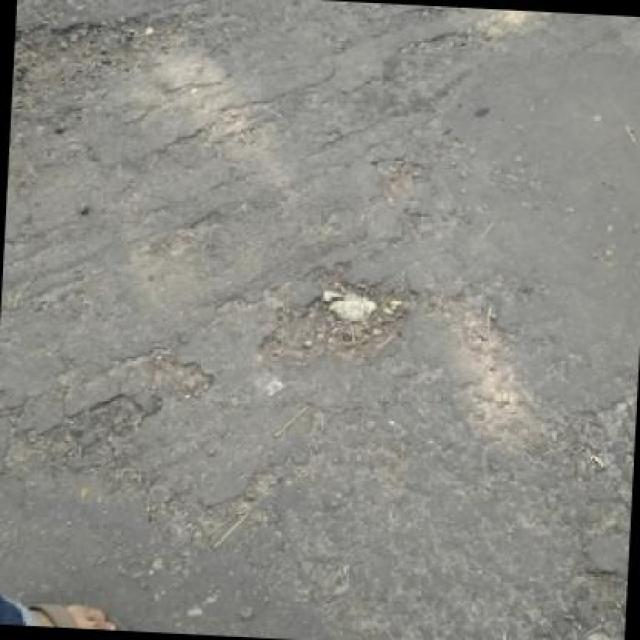pothole1: (11, 7, 194, 119), (256, 267, 422, 376), (130, 341, 218, 392), (78, 389, 148, 437), (366, 152, 432, 202)
